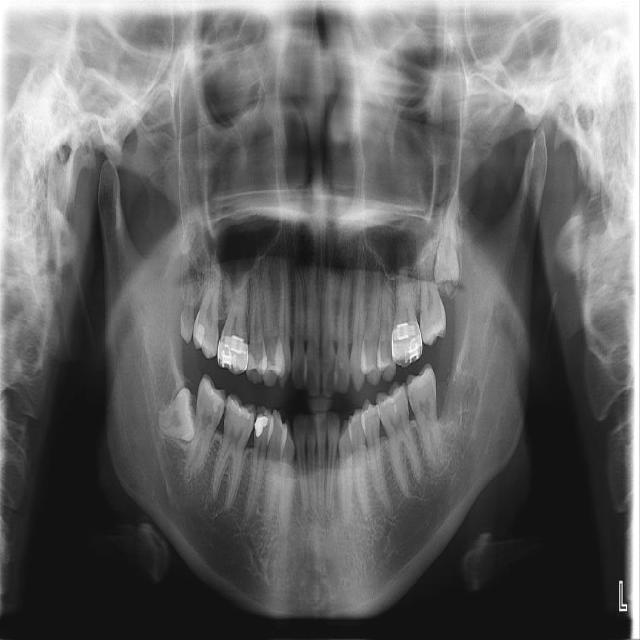Filling: (391, 321, 423, 368), (217, 336, 248, 376), (205, 380, 222, 413), (246, 350, 267, 374), (230, 398, 251, 420), (254, 416, 268, 438), (194, 321, 204, 344), (269, 359, 283, 374)
impacted tooth: (433, 185, 463, 280), (155, 387, 197, 440)
